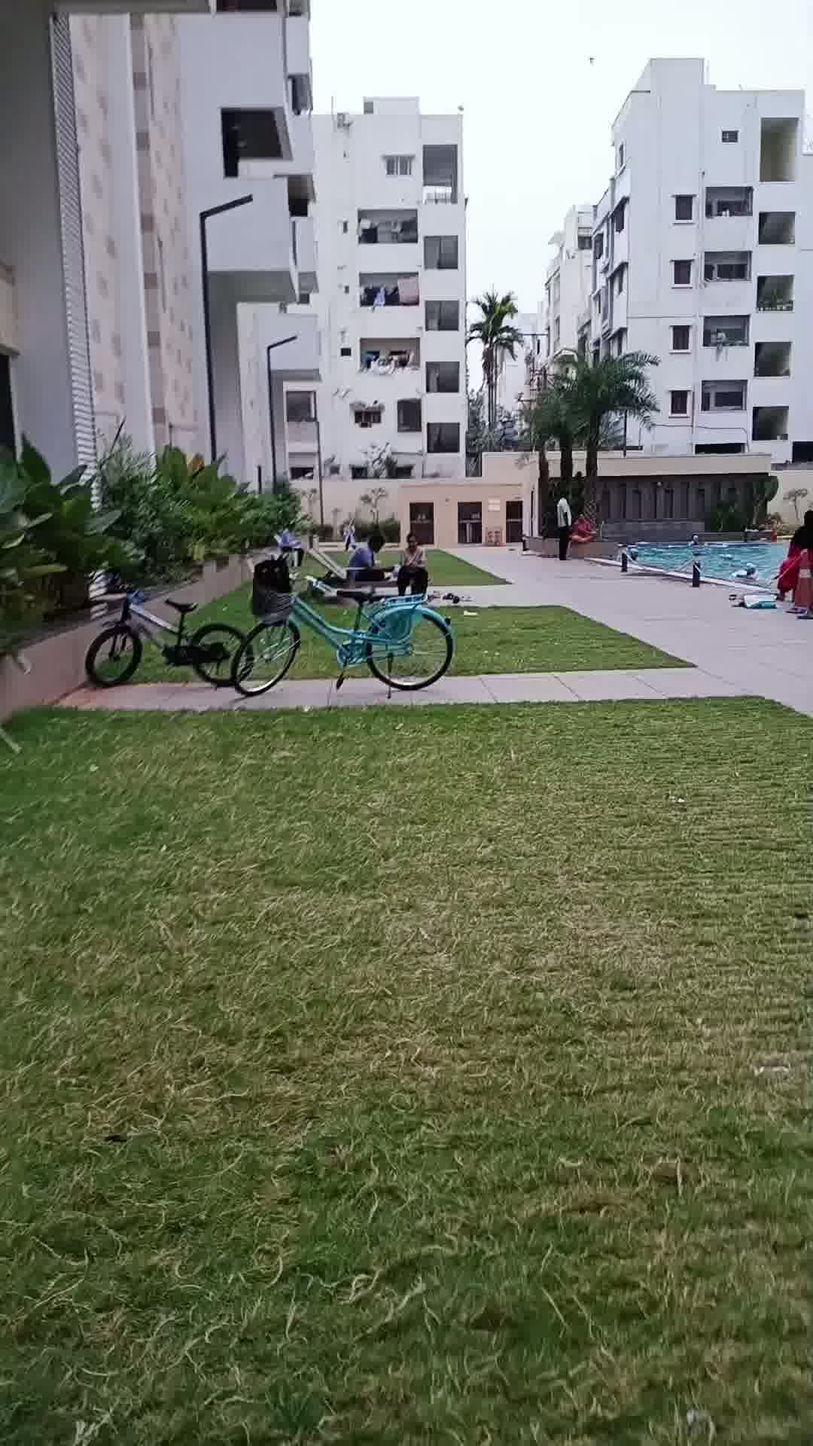bicycle: (240, 547, 461, 715), (75, 565, 246, 711)
person: (345, 525, 395, 591), (548, 484, 579, 561), (400, 523, 429, 601)
tree: (553, 327, 640, 512), (462, 284, 528, 464), (528, 347, 594, 501)
